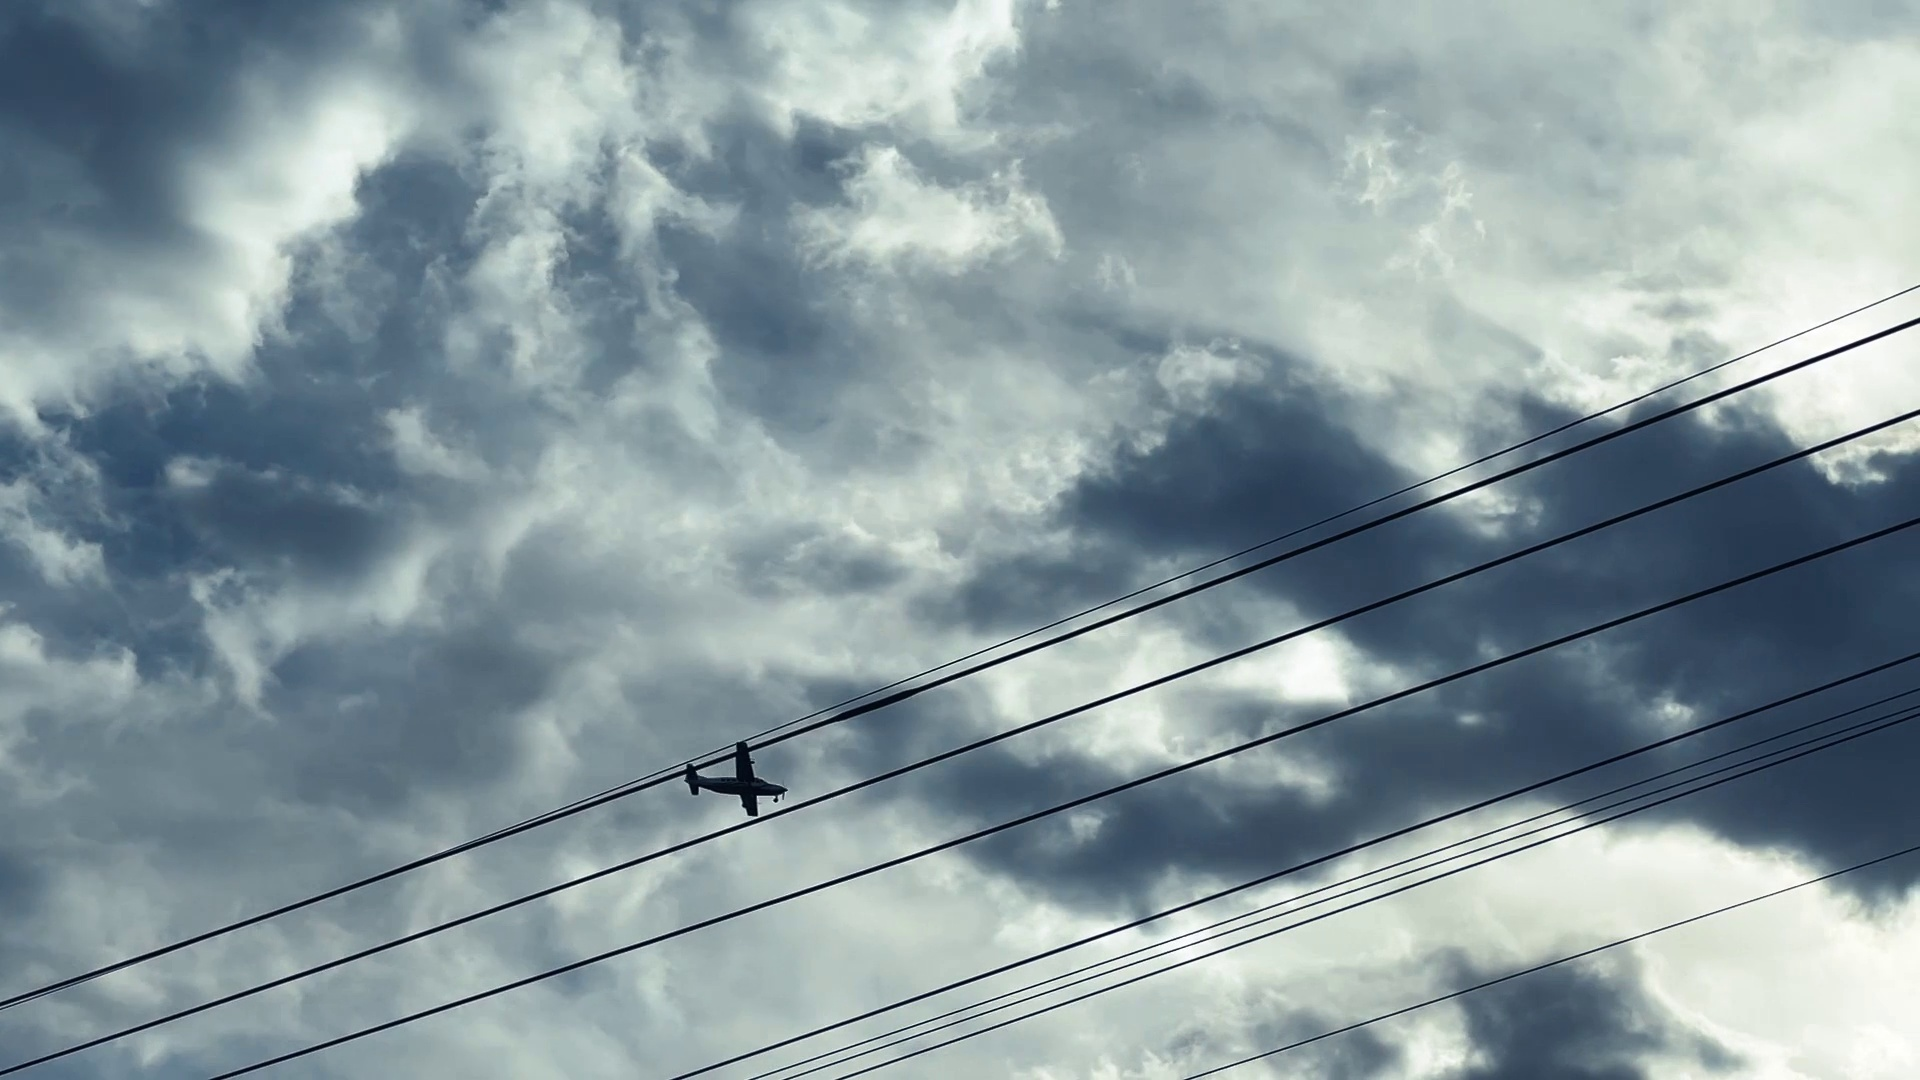plane: (682, 738, 793, 818)
